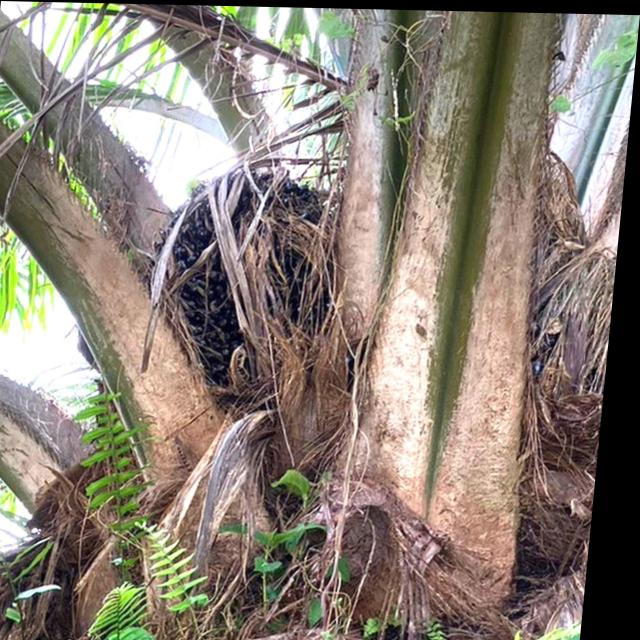unripe: (125, 153, 366, 419)
